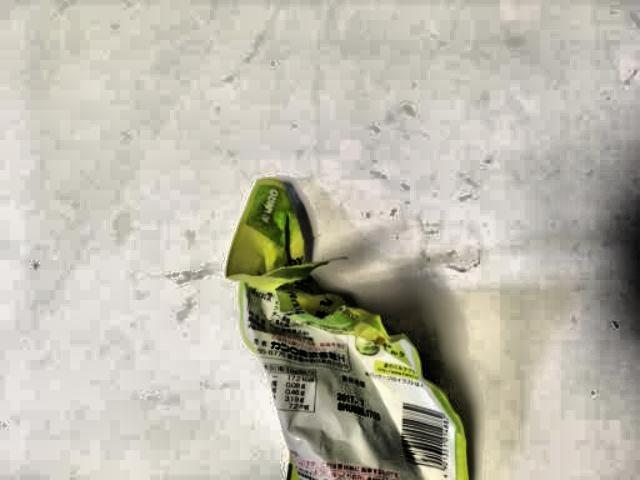Plastic: (209, 166, 506, 480)
